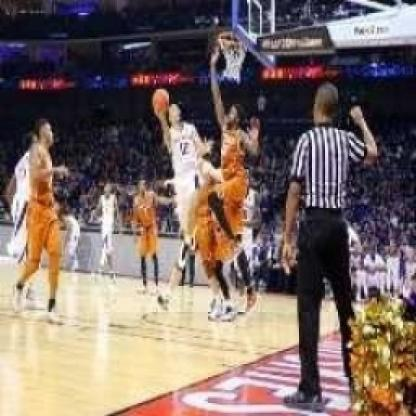basketball: (152, 86, 172, 116)
